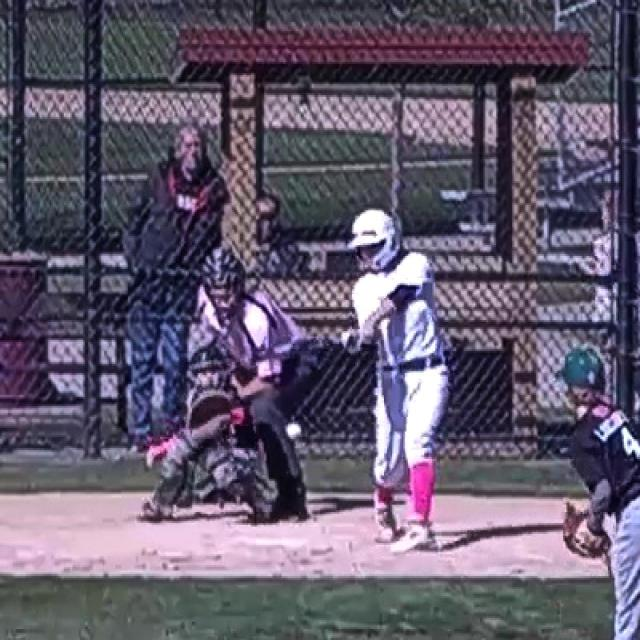baseball: (288, 424, 302, 438)
